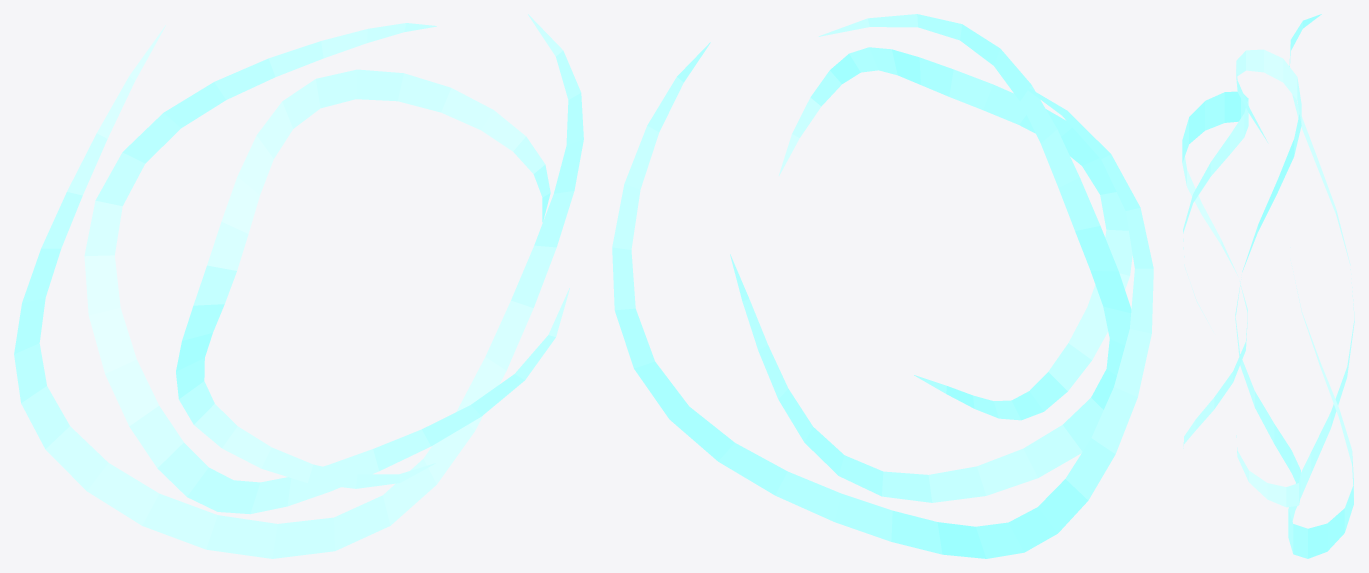
Rendered from fist.glb.
3 renders of one model, left to right at view 1: azimuth 30°, elevation 25°; view 2: azimuth 150°, elevation 25°; view 3: azimuth 270°, elevation 25°, orthographic. The views are drawn at different scales.
Parts seen in each view (by area): view 1: fist; view 2: fist; view 3: fist.
Boxes of the visible parts, bbox=[...] form: fist: bbox=[14, 14, 583, 558]; fist: bbox=[612, 14, 1153, 558]; fist: bbox=[1182, 14, 1354, 558].
Size of the model in its own units: 0.4153 by 0.3846 by 0.1299.
